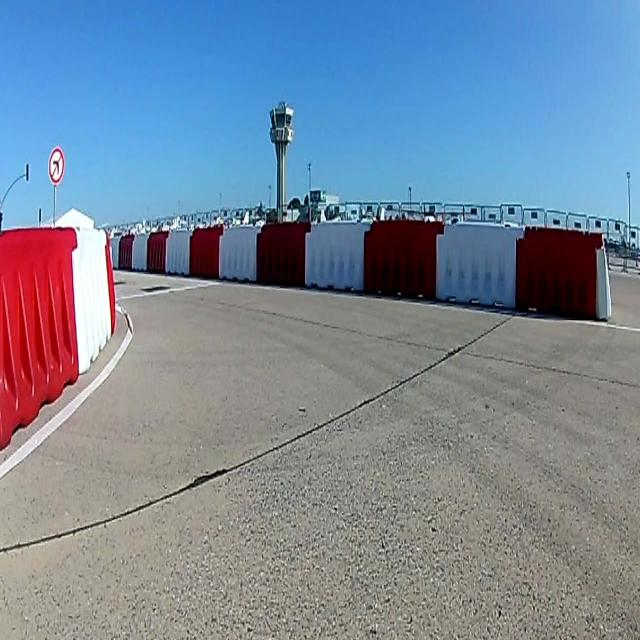soladonulmez: (48, 147, 64, 185)
